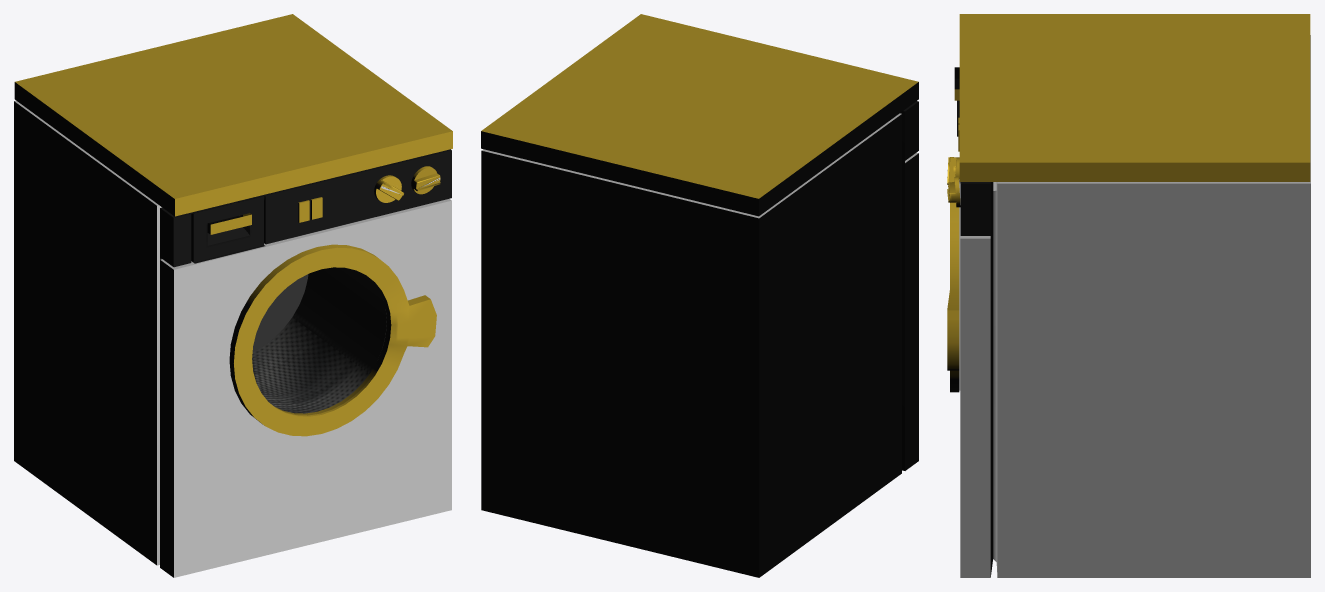
File: WashingMachineGoede.fbx
3 renders of one model, left to right at view 1: azimuth 30°, elevation 25°; view 2: azimuth 150°, elevation 25°; view 3: azimuth 270°, elevation 25°, orthographic. The views are drawn at different scales.
Parts seen in each view (by area): view 1: washingMachine; view 2: washingMachine; view 3: washingMachine.
Part boxes in pixels (x1,y1,x2,y2): washingMachine: (14, 14, 452, 577); washingMachine: (481, 14, 918, 577); washingMachine: (947, 14, 1310, 577).
Size of the model in its own units: 64.61 by 84.03 by 66.66.
2 materials, 1 textured.
